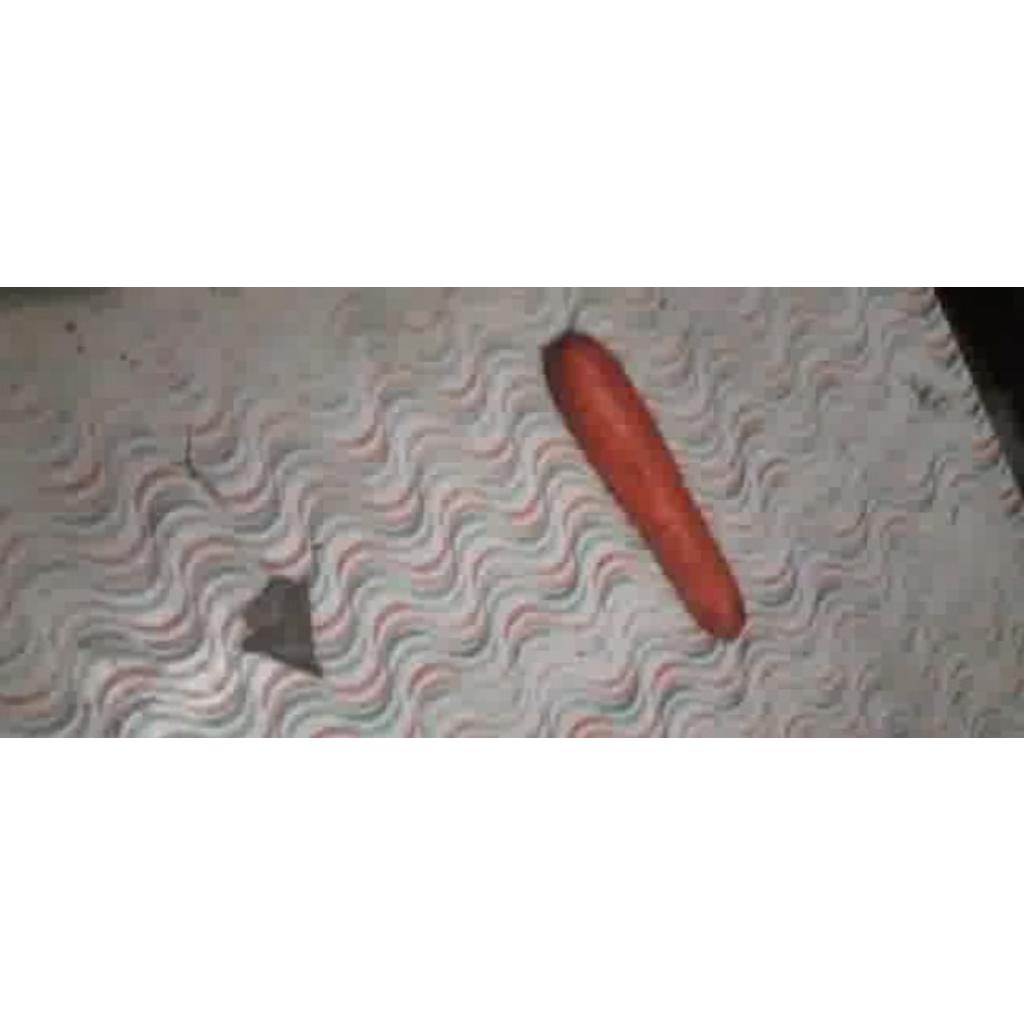carrot: (544, 334, 746, 638)
